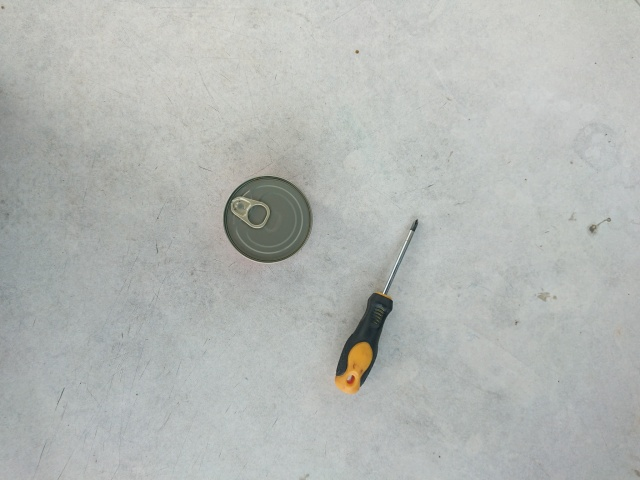Gavrilovic Pork Liver Pate 100g: (220, 172, 314, 265)
